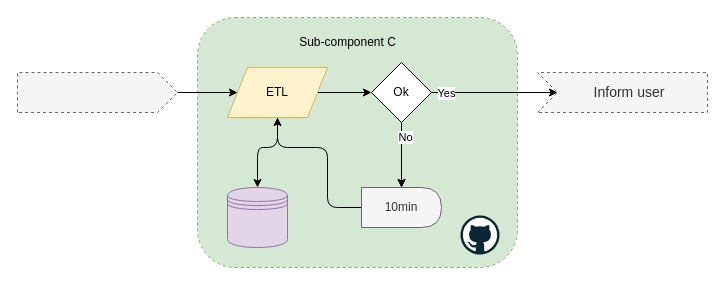
This 725x285 diagram has some shape labels left out. The shapes that lost their labels are listed below. From the top down, each one's centre as x and y in pixels, then its label:
(x=97, y=92): Data
(x=257, y=217): DB
